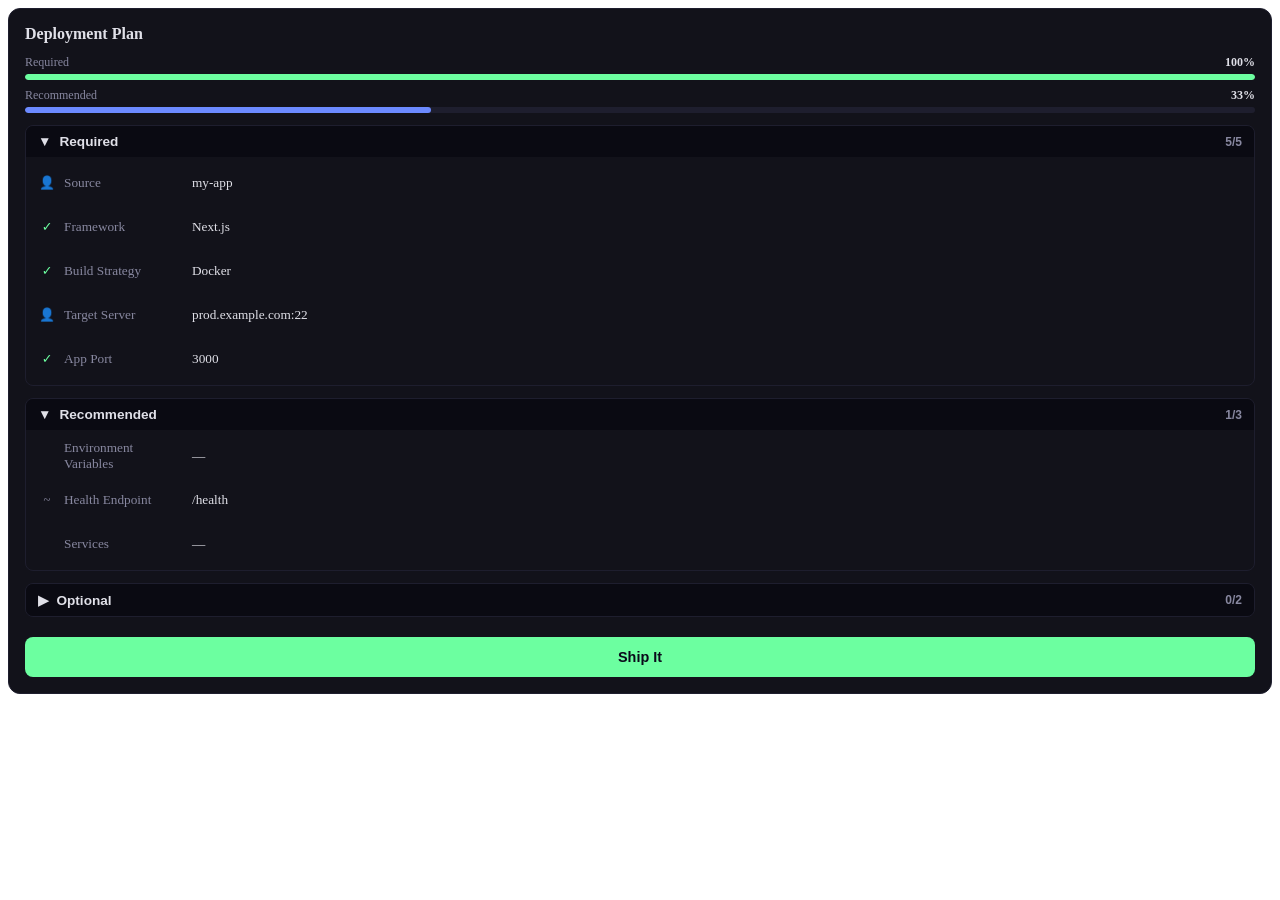
Test: DeploymentPlanPanel › collapses and expands sections
The width and height of the screenshot is (1280, 900).
Click to expand
Click the text "Optional" at {"x": 84, "y": 600}, box [56,592,112,608]
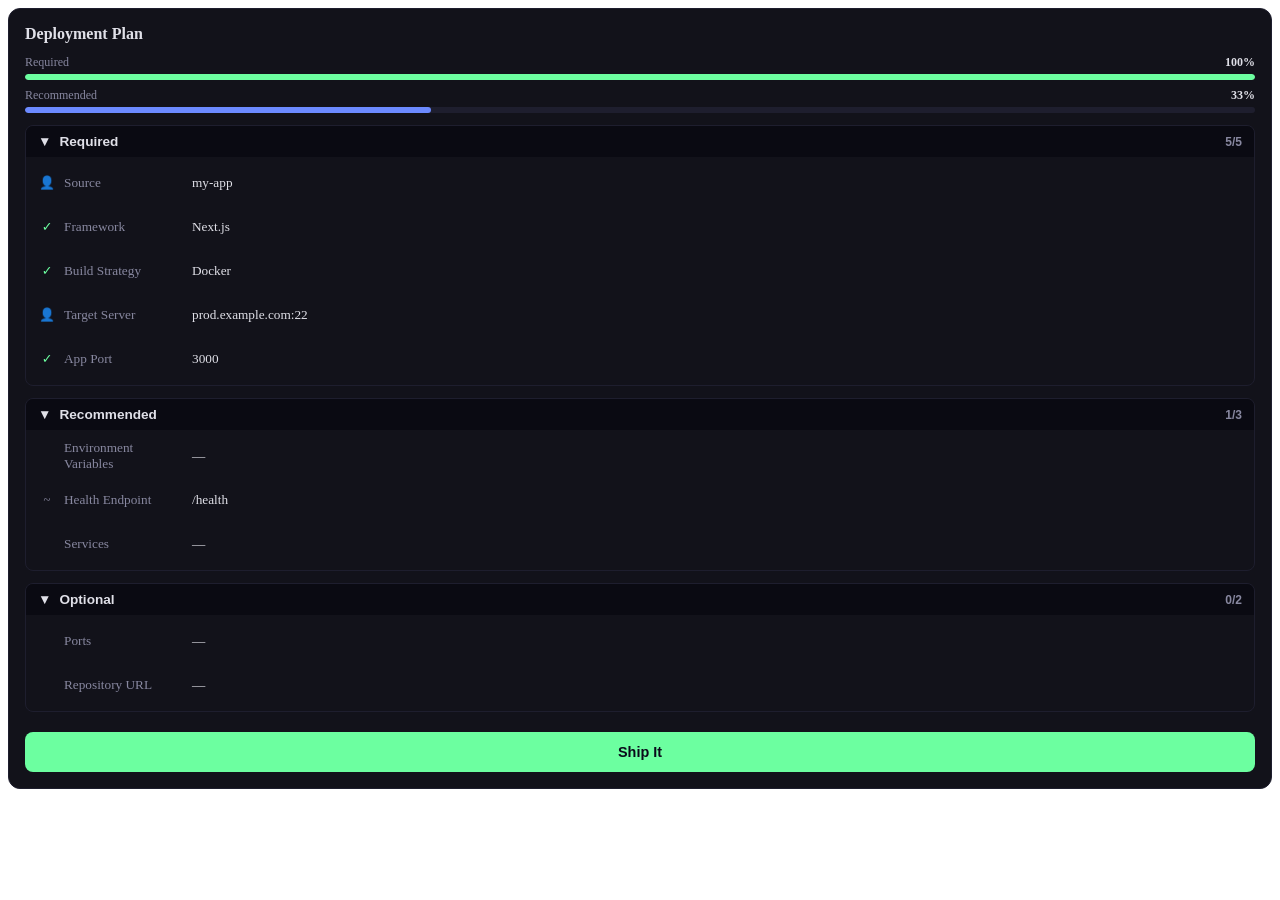
Expected: the text "Ports" is shown, [64,633,91,648]
